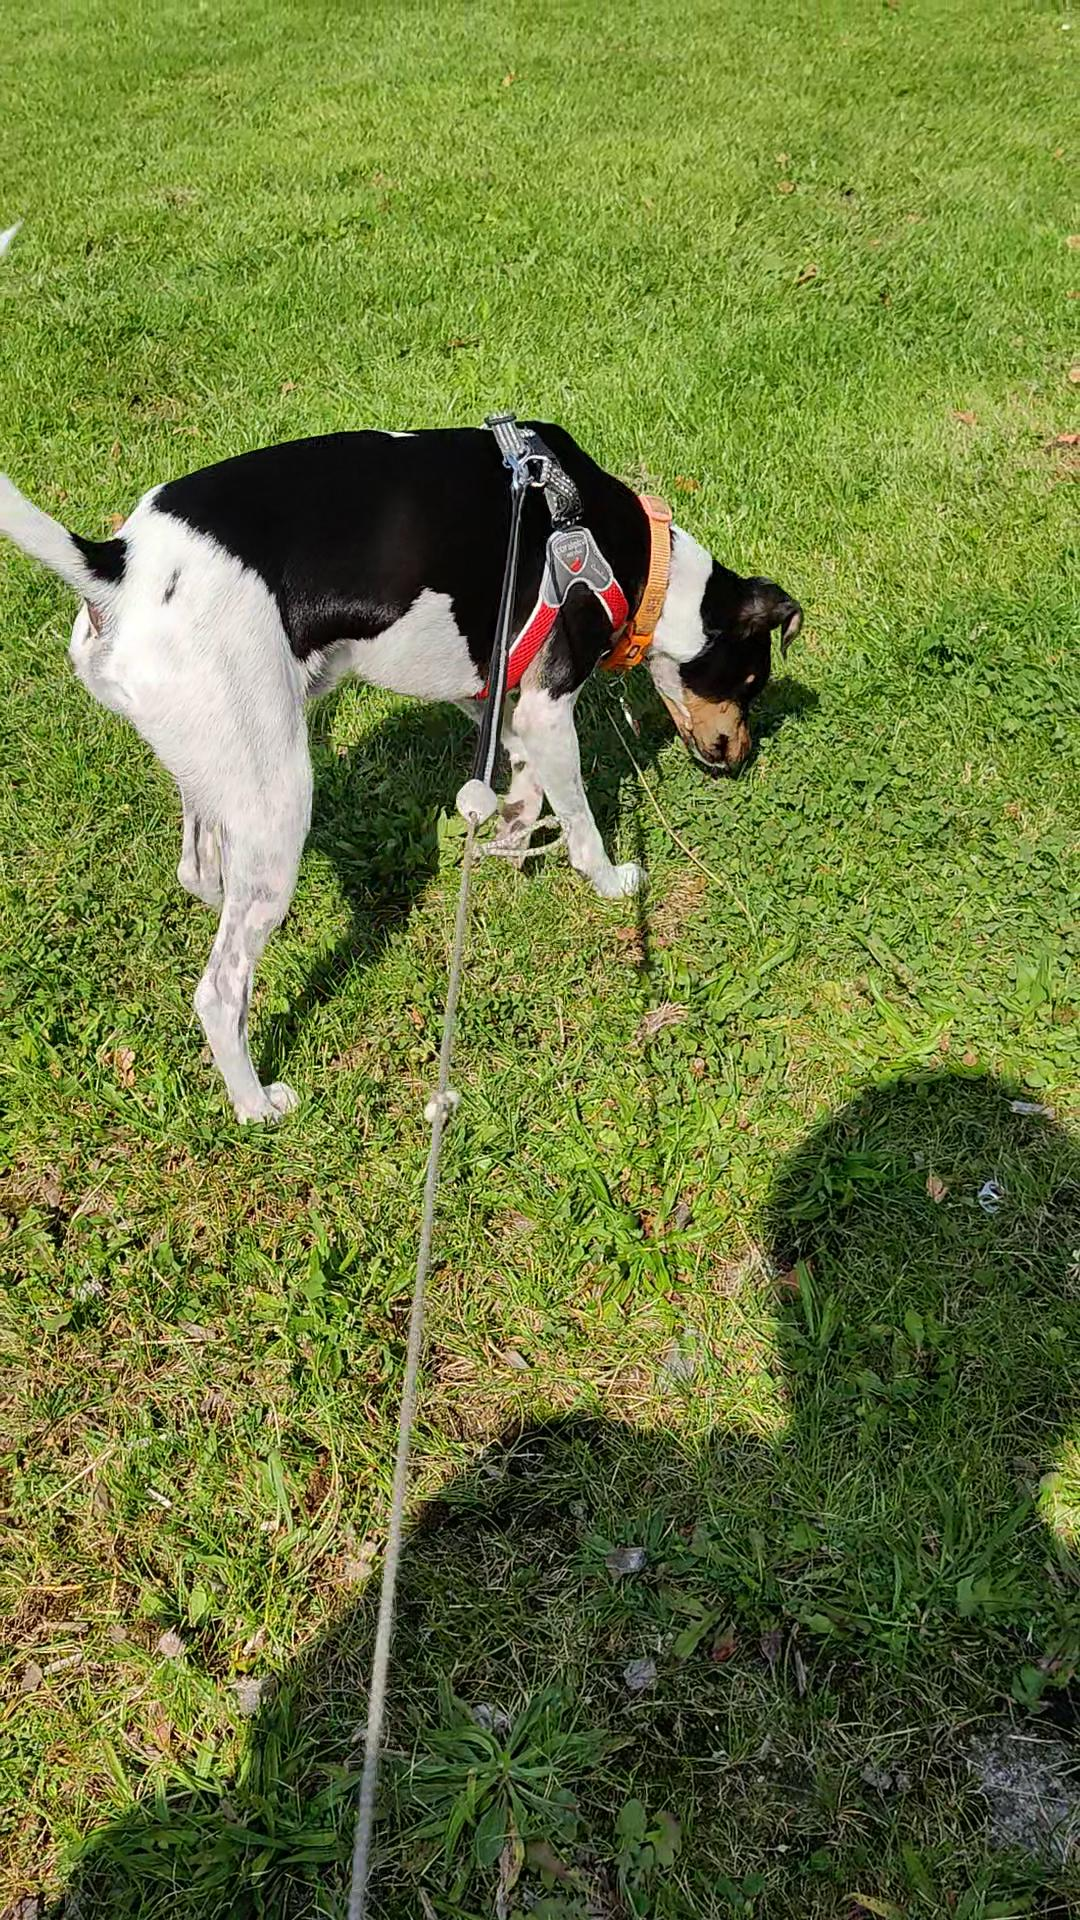Dog: (0, 211, 814, 1130)
